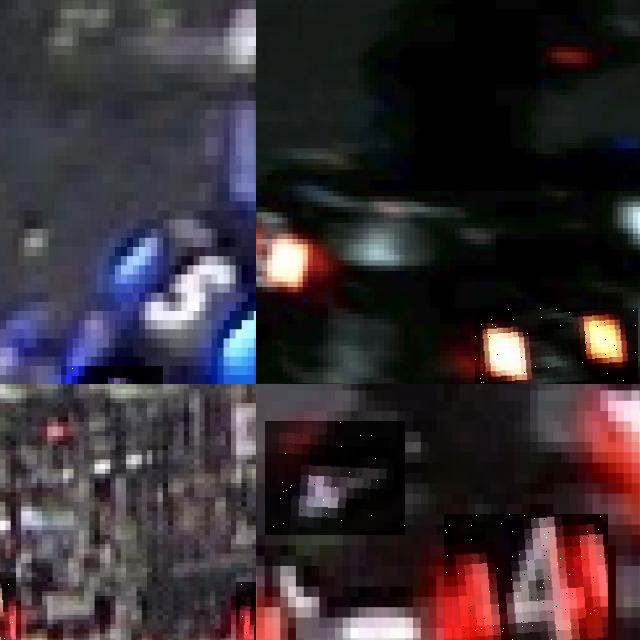R2: (0, 572, 15, 640)
R4: (444, 514, 608, 640), (265, 421, 405, 535)
Rs: (475, 308, 637, 384)
